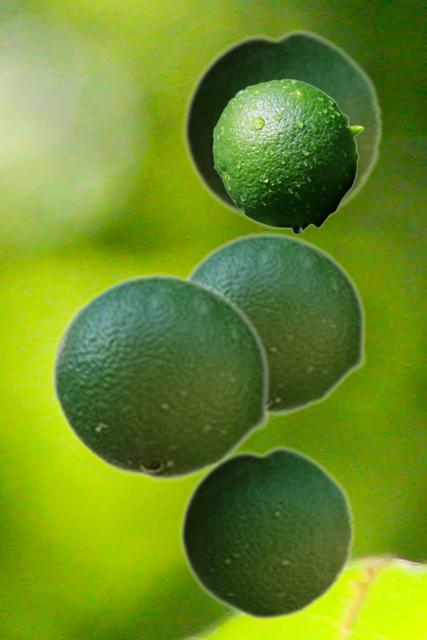dalandan: (50, 272, 270, 482), (181, 26, 383, 231), (184, 231, 366, 416), (178, 443, 355, 622), (212, 78, 363, 234)
